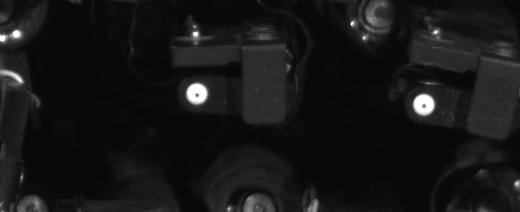fiber: (182, 79, 212, 110), (409, 91, 439, 119)
